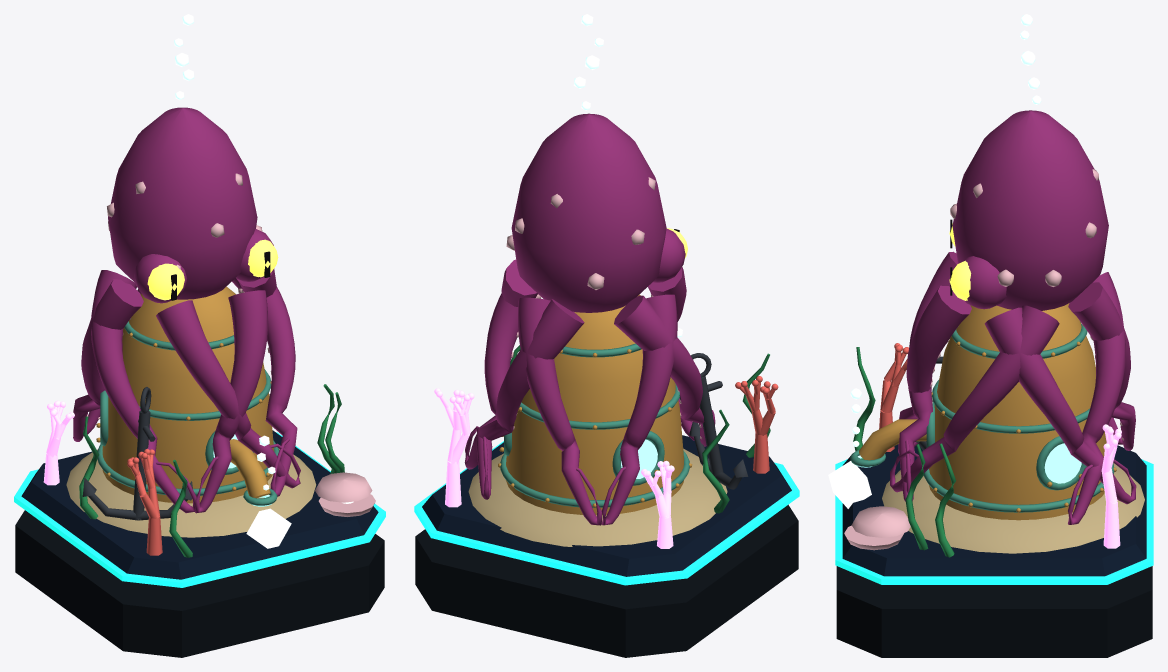
File: KrakenDepthsMine_Roblox.fbx
3 renders of one model, left to right at view 1: azimuth 30°, elevation 25°; view 2: azimuth 150°, elevation 25°; view 3: azimuth 270°, elevation 25°, orthographic. The views are drawn at different scales.
Parts seen in each view (by area): view 1: KrakenSkin, Black, Brass, AbyssMarble, SeaSand, TealTrim, VerdigrisCopper, KrakenSuckers, Seaweed, AnchorIron, KrakenEye, Coral (+3 smaller); view 2: KrakenSkin, Black, Brass, AbyssMarble, SeaSand, TealTrim, VerdigrisCopper, GlowCoral, AnchorIron, Coral, Seaweed, KrakenSuckers (+1 smaller); view 3: KrakenSkin, Black, Brass, AbyssMarble, SeaSand, VerdigrisCopper, TealTrim, KrakenSuckers, Seaweed, GlowCoral, PearlOre, Coral (+3 smaller).
Boxes of the visible parts, left/top/right/bottom form: KrakenSkin: left=73, top=107, right=300, bottom=513; Black: left=15, top=510, right=384, bottom=657; Brass: left=96, top=286, right=274, bottom=503; AbyssMarble: left=21, top=430, right=378, bottom=579; SeaSand: left=66, top=448, right=316, bottom=537; TealTrim: left=14, top=432, right=385, bottom=587; VerdigrisCopper: left=97, top=321, right=279, bottom=505; KrakenSuckers: left=87, top=173, right=375, bottom=516; Seaweed: left=79, top=384, right=344, bottom=557; AnchorIron: left=82, top=387, right=192, bottom=520; KrakenEye: left=147, top=239, right=278, bottom=300; Coral: left=127, top=449, right=162, bottom=555; KrakenSkin: left=464, top=113, right=715, bottom=525; Black: left=415, top=504, right=798, bottom=657; Brass: left=498, top=294, right=692, bottom=515; AbyssMarble: left=422, top=435, right=791, bottom=576; SeaSand: left=468, top=448, right=727, bottom=546; TealTrim: left=414, top=441, right=799, bottom=585; VerdigrisCopper: left=500, top=343, right=689, bottom=507; GlowCoral: left=434, top=388, right=674, bottom=548; AnchorIron: left=679, top=353, right=748, bottom=489; Coral: left=735, top=376, right=778, bottom=473; Seaweed: left=510, top=345, right=770, bottom=513; KrakenSuckers: left=492, top=177, right=701, bottom=449; KrakenSkin: left=890, top=110, right=1136, bottom=524; Black: left=836, top=566, right=1152, bottom=657; Brass: left=859, top=303, right=1116, bottom=520; AbyssMarble: left=842, top=441, right=1146, bottom=576; SeaSand: left=882, top=463, right=1144, bottom=553; VerdigrisCopper: left=850, top=322, right=1114, bottom=512; TealTrim: left=835, top=459, right=1153, bottom=584; KrakenSuckers: left=844, top=169, right=1123, bottom=550; Seaweed: left=853, top=347, right=956, bottom=557; GlowCoral: left=1101, top=424, right=1121, bottom=548; PearlOre: left=828, top=461, right=871, bottom=508; Coral: left=879, top=343, right=908, bottom=451.
Bounding box in the file's own units: 1058 × 2123 × 1082.
